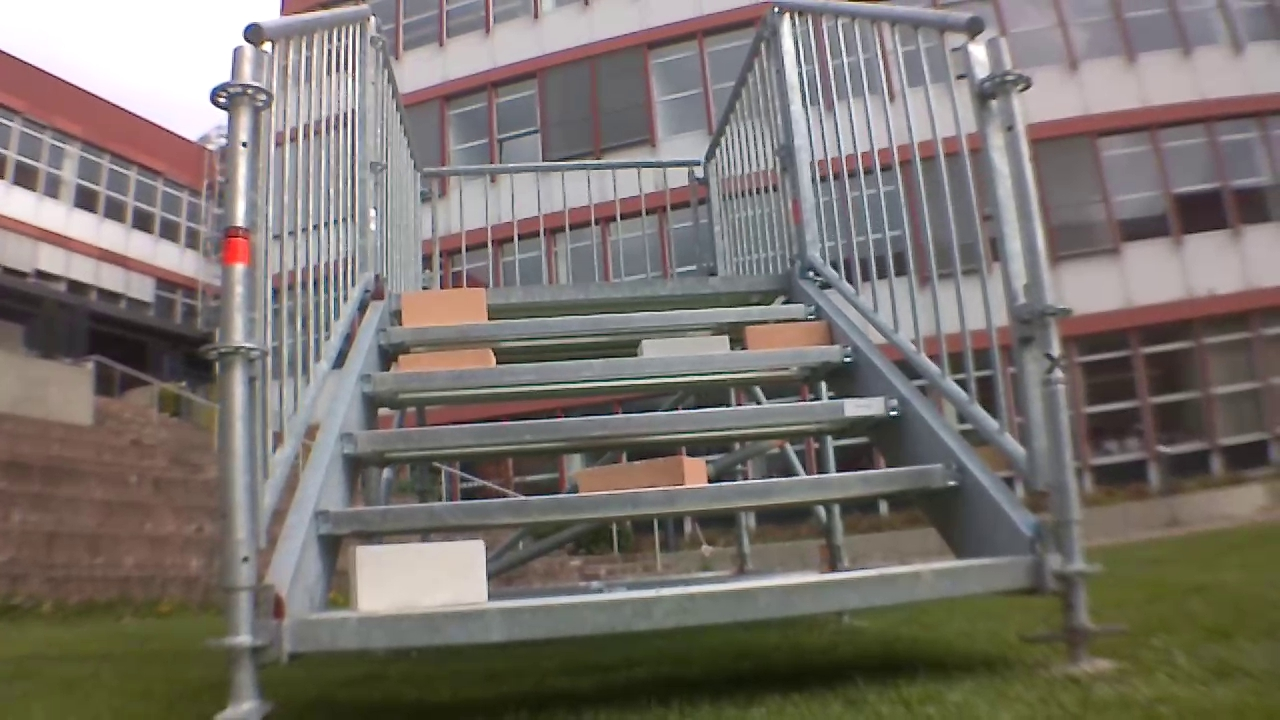brick: (350, 538, 488, 615), (577, 457, 713, 492), (400, 287, 491, 328), (744, 320, 833, 350), (398, 349, 498, 370), (640, 338, 728, 355)
edge: (290, 556, 1036, 652), (316, 462, 961, 540), (341, 399, 905, 457), (354, 348, 856, 395), (374, 302, 816, 349), (384, 269, 797, 303)
stairs: (208, 3, 1106, 683)
steps: (278, 268, 1043, 658)
